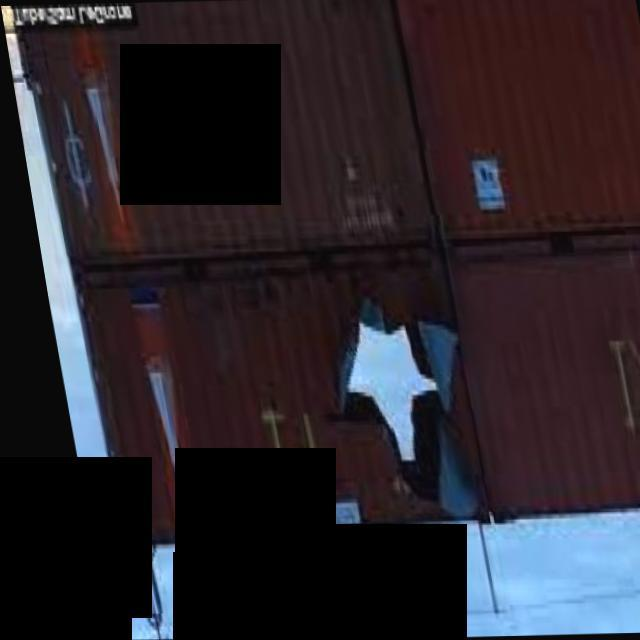hole: (294, 286, 476, 520)
